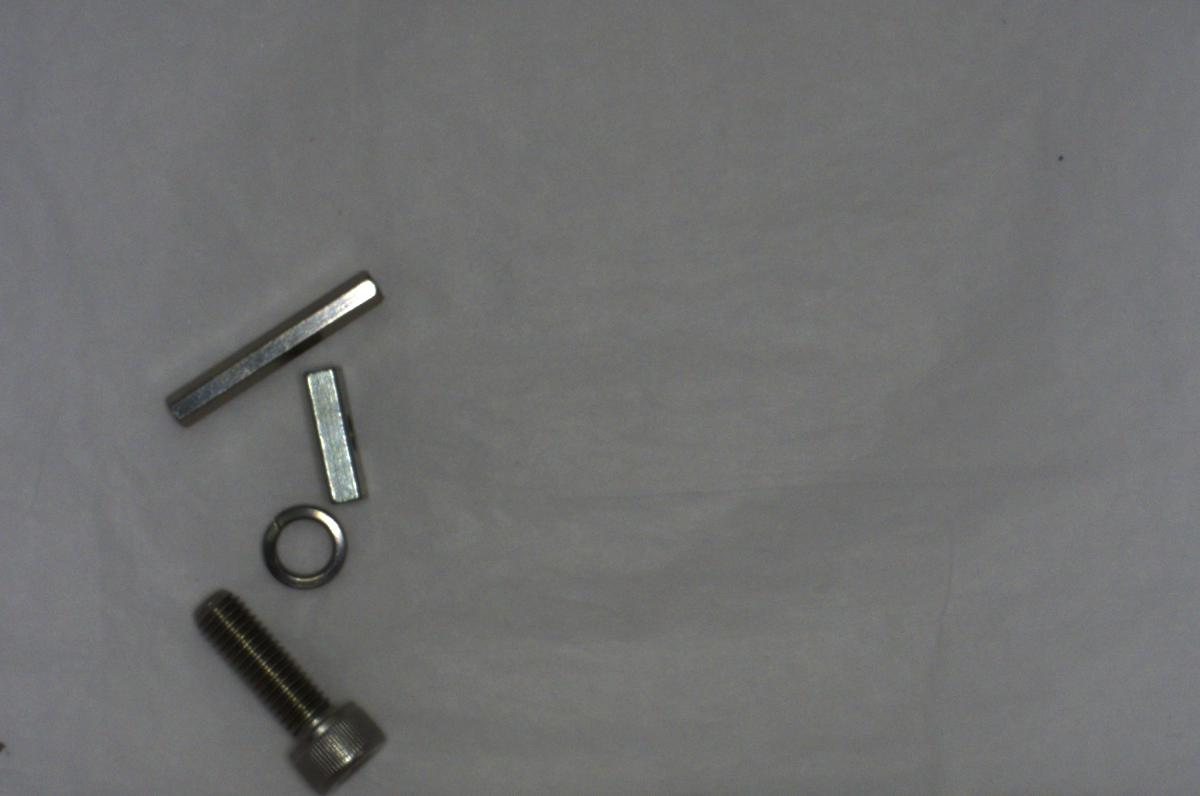Double hexagonal column: (160, 262, 388, 427)
Hexagon screw: (188, 585, 392, 789)
Rectangular nut: (304, 356, 366, 506)
Spring washer: (258, 505, 359, 592)
